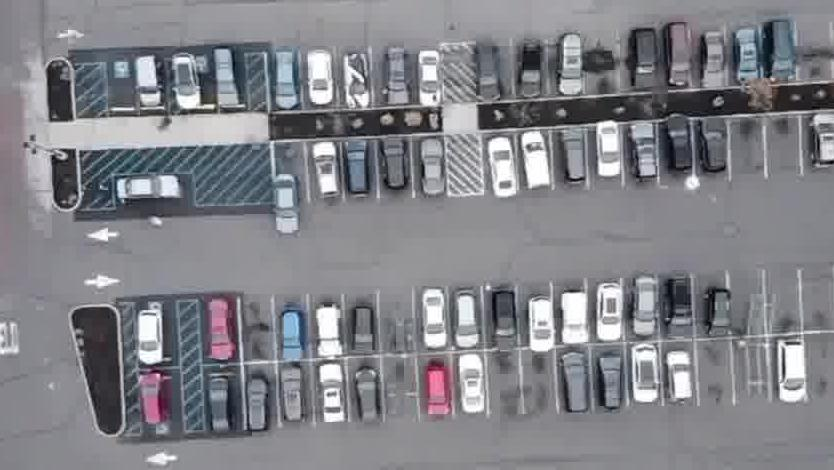car: (454, 350, 492, 417), (777, 338, 812, 408), (763, 18, 799, 83), (627, 27, 662, 92), (486, 134, 521, 199), (114, 173, 185, 205), (664, 21, 695, 90), (696, 116, 732, 175), (317, 362, 350, 426), (562, 352, 594, 418), (632, 346, 666, 408), (310, 137, 343, 200), (661, 114, 694, 177), (598, 351, 630, 414), (491, 289, 522, 354), (474, 38, 505, 102), (521, 132, 554, 192), (526, 295, 560, 353), (667, 277, 698, 340), (669, 347, 700, 410), (559, 127, 591, 188), (208, 293, 238, 358), (271, 172, 300, 237), (420, 283, 449, 348), (557, 30, 585, 97), (354, 362, 385, 422), (423, 361, 454, 421), (205, 373, 234, 437), (560, 289, 592, 347), (172, 54, 205, 110), (456, 286, 484, 352), (598, 283, 628, 344), (418, 135, 447, 197), (379, 134, 409, 193), (343, 136, 372, 197), (317, 299, 348, 356), (309, 48, 338, 108), (386, 46, 415, 106), (246, 369, 274, 431), (629, 123, 658, 182), (142, 366, 171, 425), (213, 48, 242, 106), (732, 28, 761, 86), (705, 286, 735, 342), (139, 304, 167, 363), (273, 48, 300, 109), (517, 39, 543, 102), (418, 46, 445, 106), (637, 274, 662, 338), (344, 49, 372, 106), (281, 362, 308, 421), (595, 121, 621, 182), (136, 53, 165, 106), (277, 304, 306, 357), (702, 29, 727, 90), (811, 114, 834, 172), (354, 303, 378, 356)
